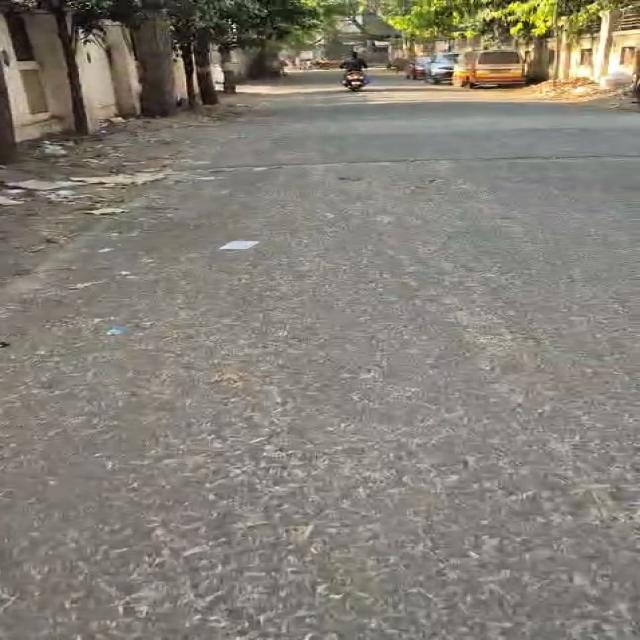obstacle: (343, 71, 366, 91)
vehicle: (425, 52, 459, 84), (406, 57, 428, 79)
